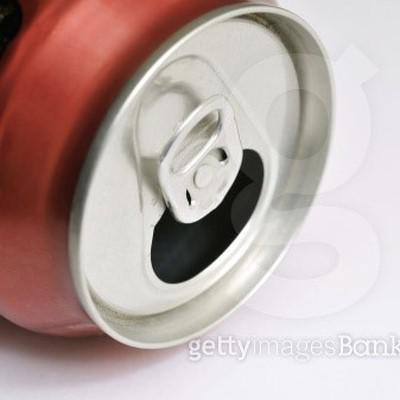beer: (1, 2, 334, 353)
